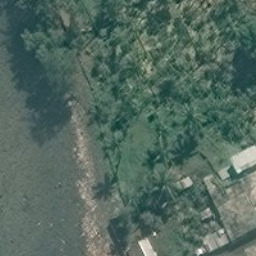buildings: (201, 163, 256, 256), (225, 140, 256, 172), (169, 171, 195, 194), (126, 239, 160, 256)
